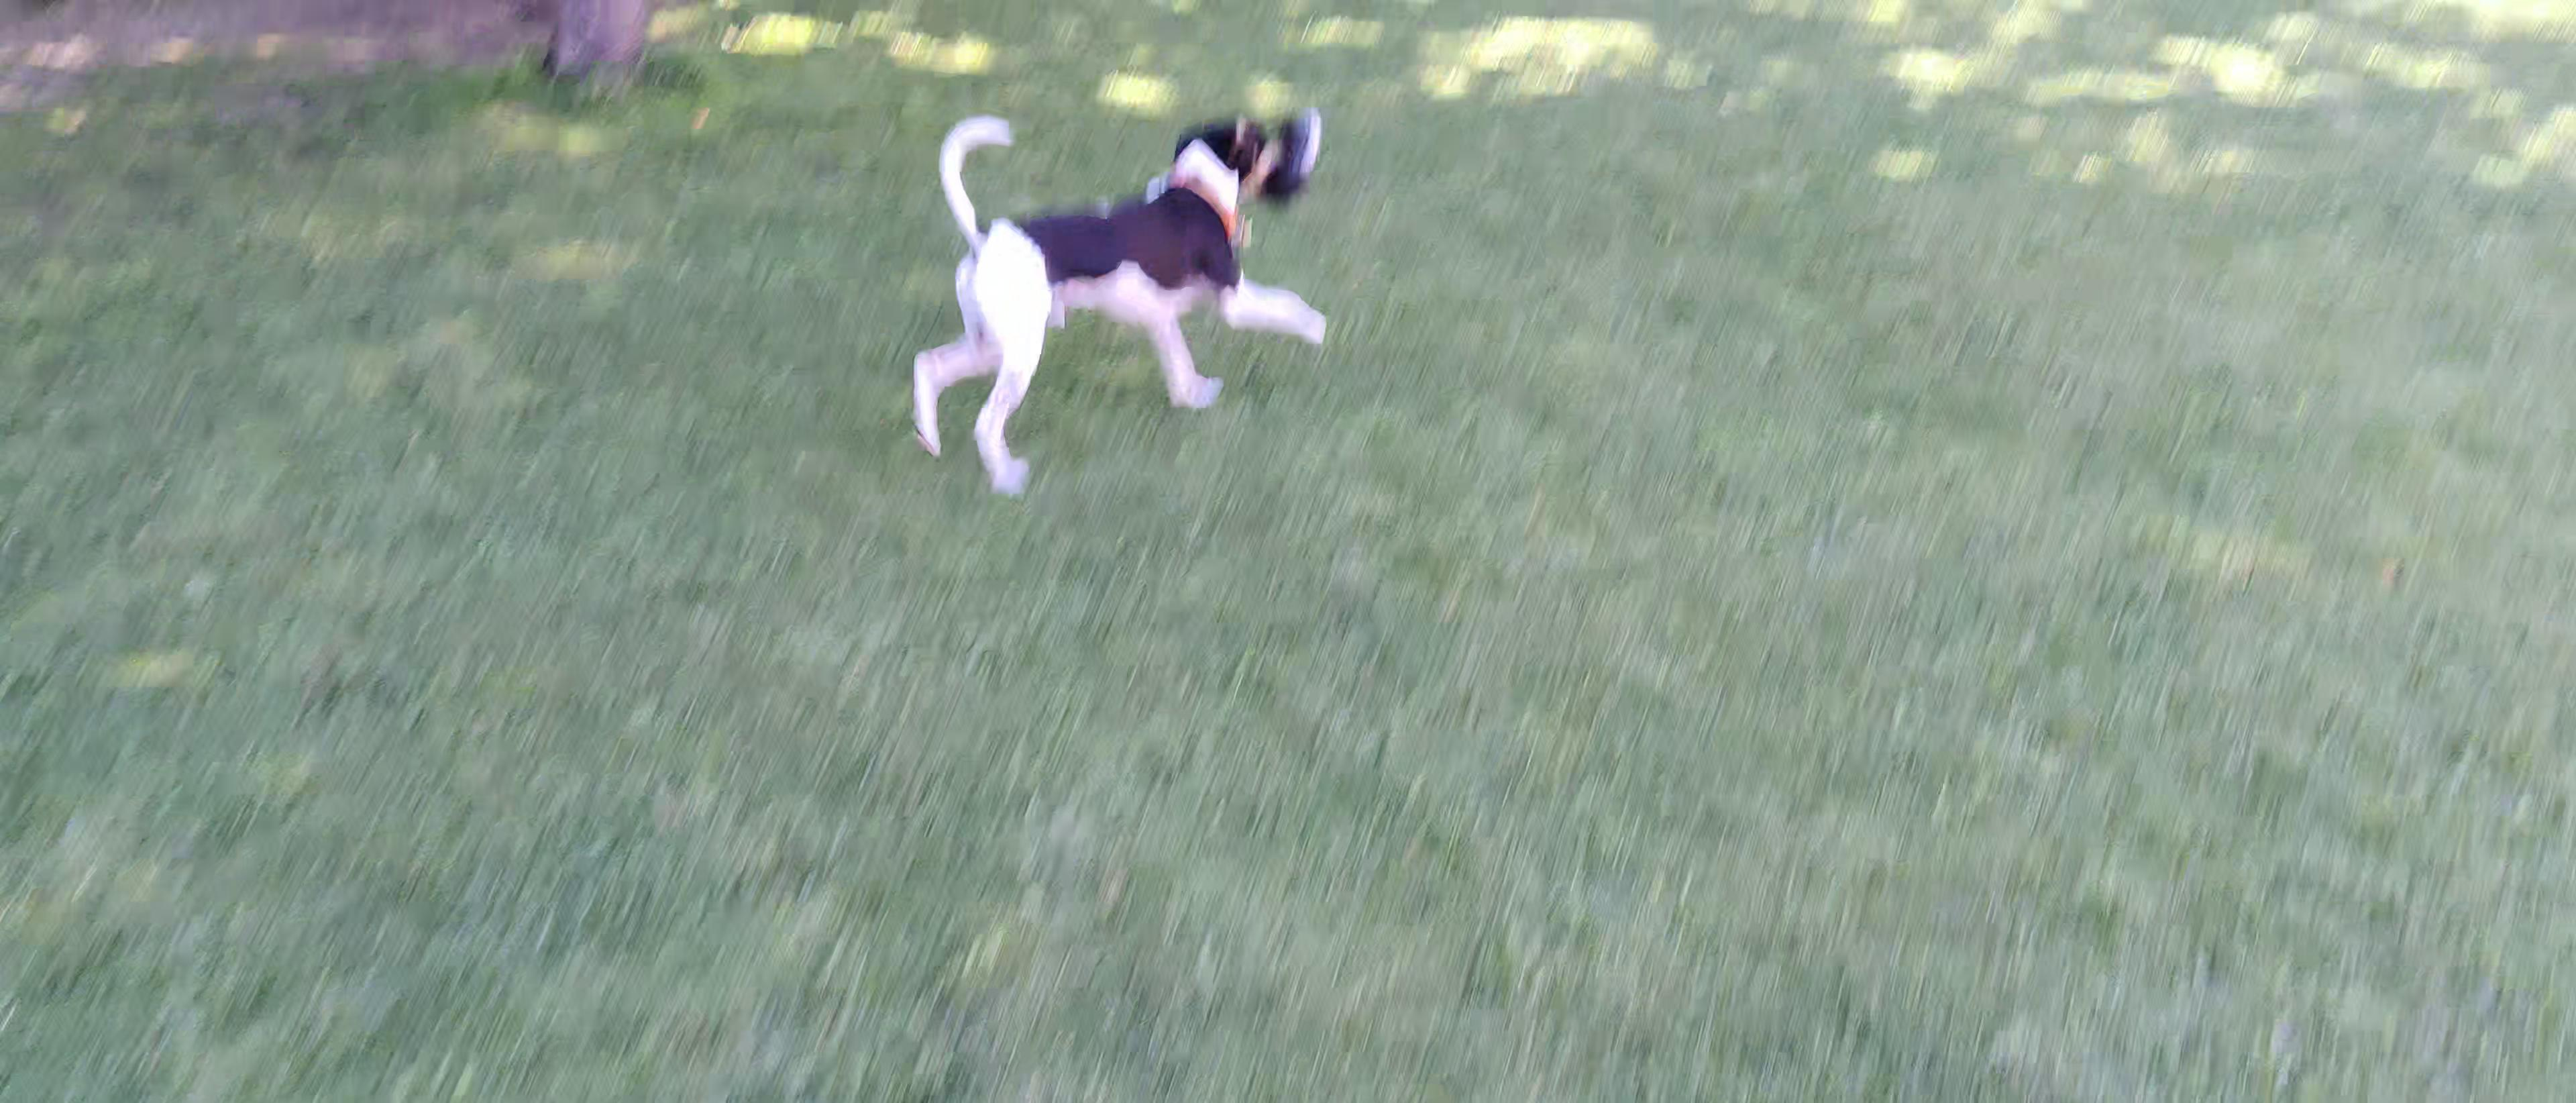Dog: (908, 94, 1331, 503)
